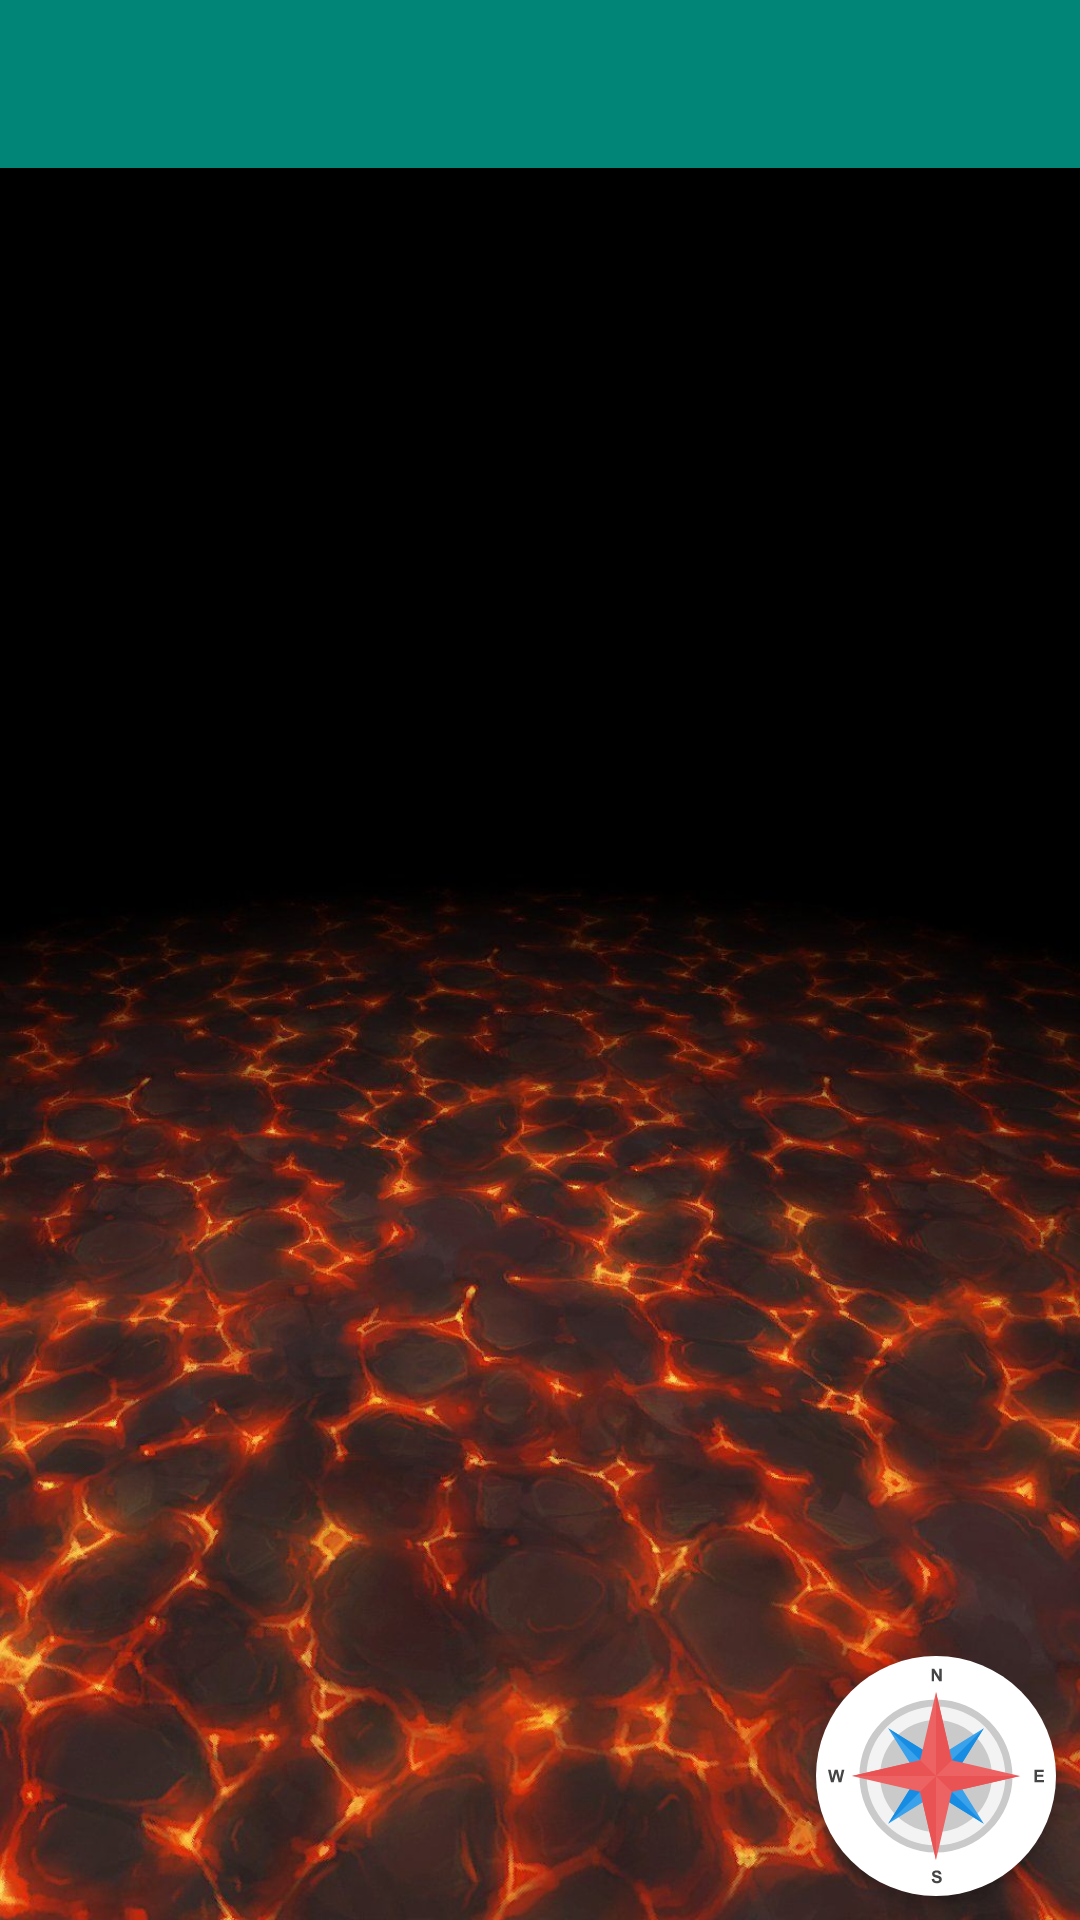

Icons on this 1080w x 1920h Android screen, each with the point to tap as (x=x, y=y):
compass: (x=936, y=1776)
